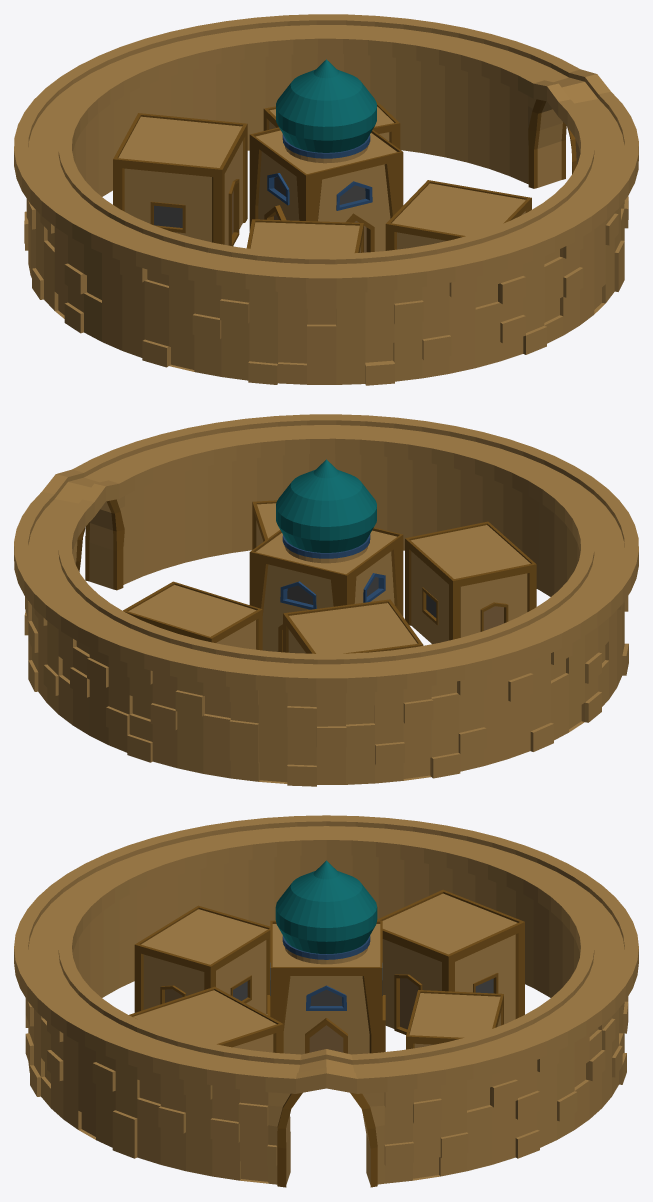
The model's file is City.fbx.
3 renders of one model, top to bottom at view 1: azimuth 30°, elevation 25°; view 2: azimuth 150°, elevation 25°; view 3: azimuth 270°, elevation 25°, orthographic.
Visible parts, largest first — view 1: Cylinder; view 2: Cylinder; view 3: Cylinder.
Part boxes in pixels (box(x1,y1,x2,y2)): Cylinder: box(14, 14, 638, 385); Cylinder: box(14, 414, 638, 786); Cylinder: box(14, 815, 638, 1187).
Bounding box in the file's own units: 1162 × 410 × 1162.
